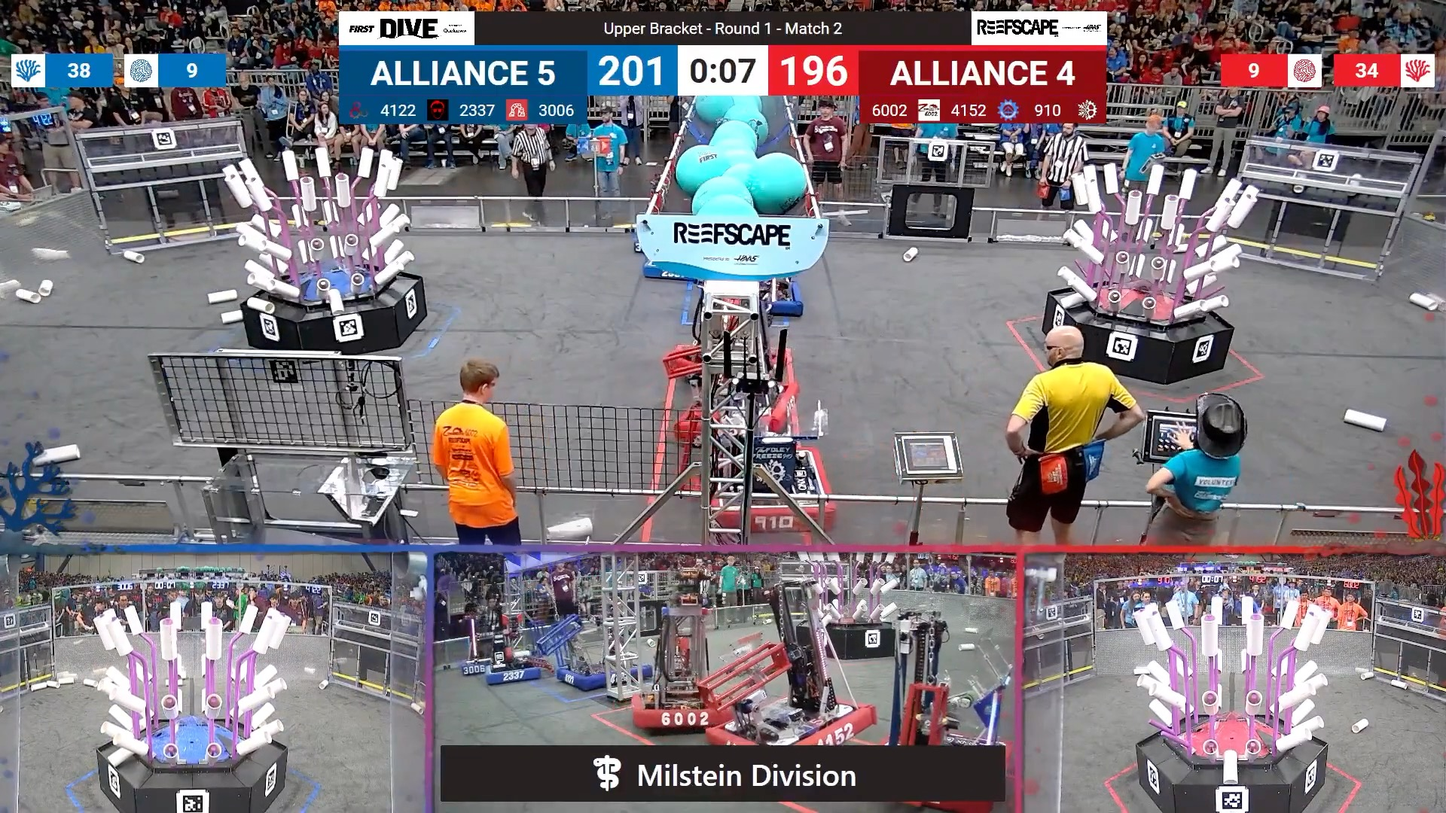bumpers: (701, 451, 836, 534), (709, 700, 876, 748), (626, 689, 732, 728), (472, 660, 546, 688), (749, 282, 808, 317), (551, 664, 624, 690), (634, 260, 682, 280)
